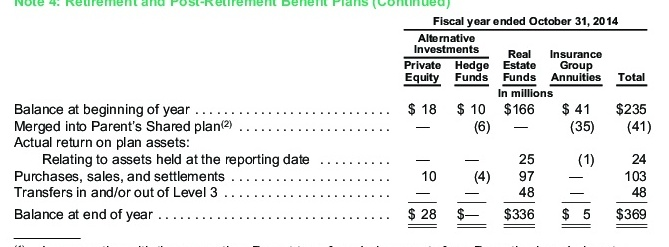table: (0, 0, 669, 247)
